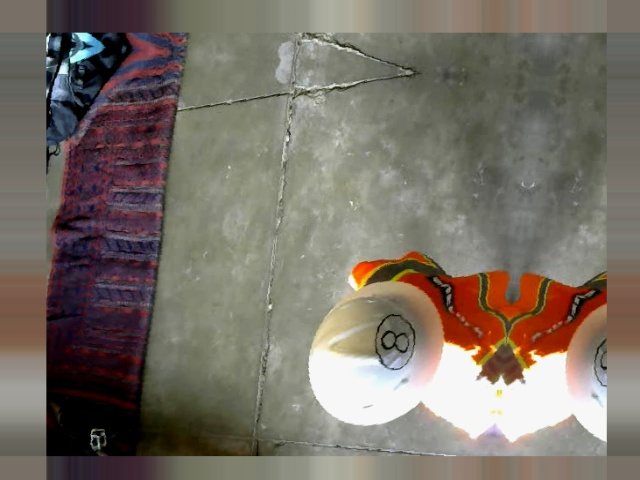eight: (369, 311, 417, 372)
